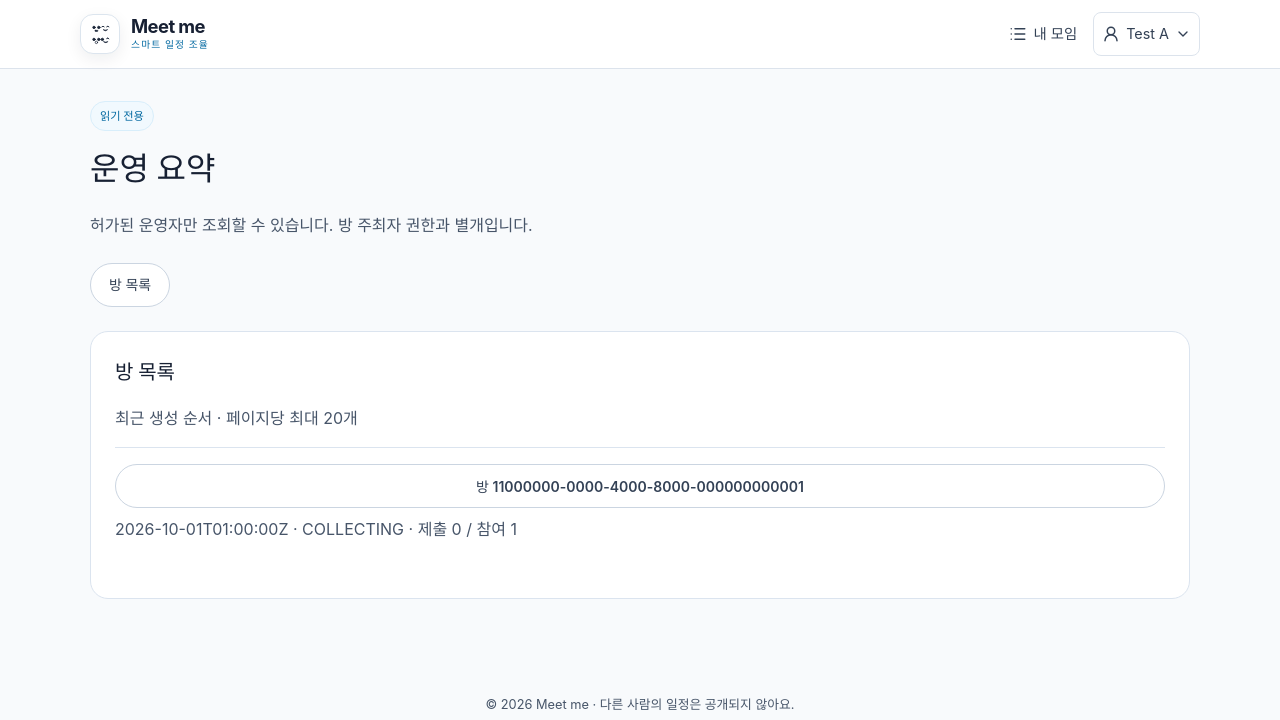
Test: #110 route binding to the actual #109 memory session › erases old summary and aborts its late response after actual account switch
Expected: the button "방 11000000-0000-4000-8000-000000000001" is shown, [115,464,1165,508]
Click the button "방 목록": (130, 285) [90,263,170,307]
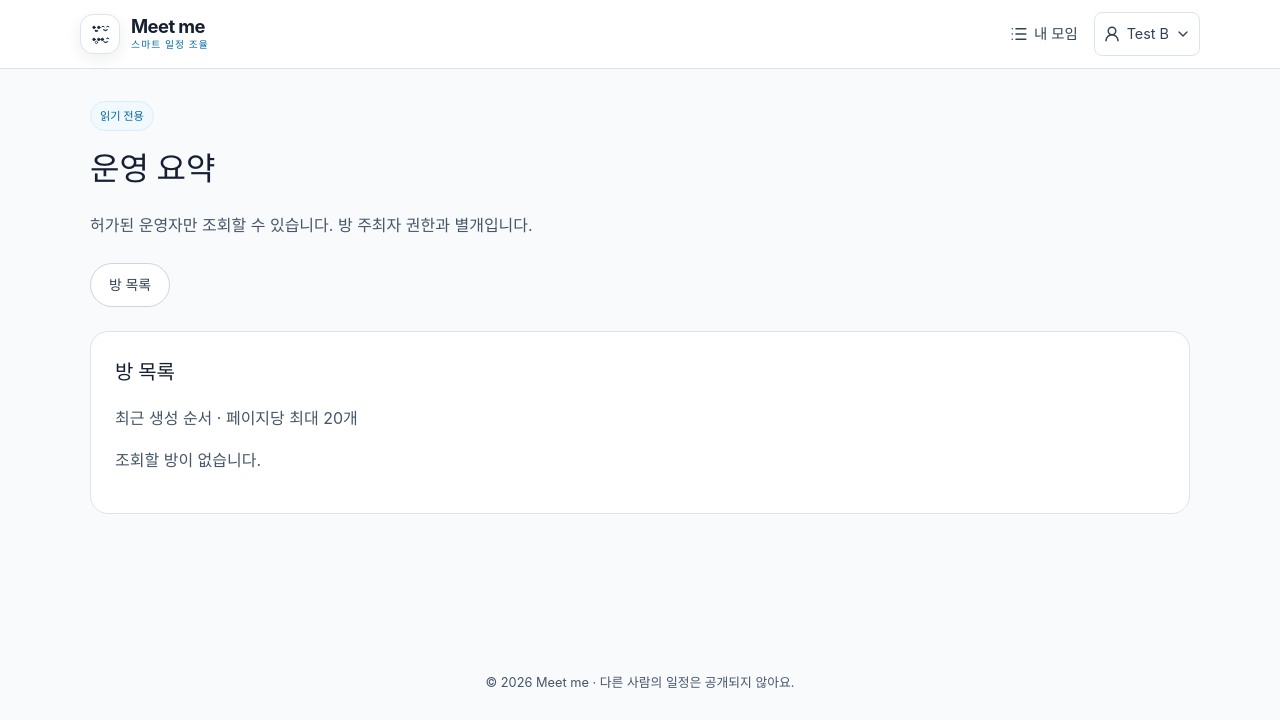
Result: the text "11000000-0000-4000-8000-000000000001" is gone
